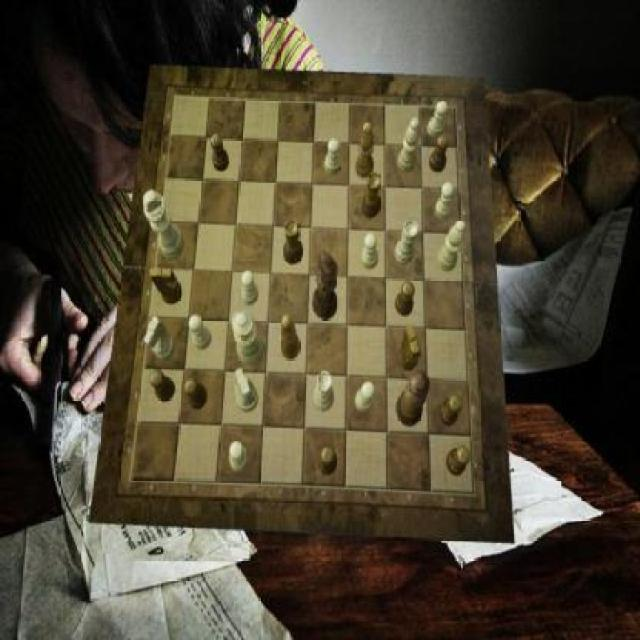bishop: (355, 122, 373, 179), (280, 315, 300, 361)
black-bishop: (312, 251, 338, 320)
black-king: (151, 266, 183, 304), (398, 325, 421, 370)
black-knight: (151, 371, 177, 403), (184, 378, 208, 411), (446, 444, 470, 476), (429, 134, 449, 172), (440, 394, 463, 426), (396, 282, 416, 318), (210, 134, 228, 172), (318, 444, 338, 476)
black-pawn: (397, 369, 431, 427)
black-queen: (283, 218, 303, 264), (362, 172, 382, 218)
black-rook: (437, 220, 465, 272), (397, 119, 420, 174)
white-bishop: (143, 189, 184, 260)
white-king: (144, 315, 176, 361), (236, 368, 258, 413)
white-knight: (190, 316, 212, 352), (428, 102, 448, 139), (435, 183, 453, 222), (324, 138, 342, 174), (363, 232, 380, 270), (356, 382, 376, 412), (230, 441, 248, 474), (242, 271, 259, 305)
white-pawn: (231, 310, 264, 366)
white-queen: (396, 220, 420, 264), (314, 371, 334, 412)
